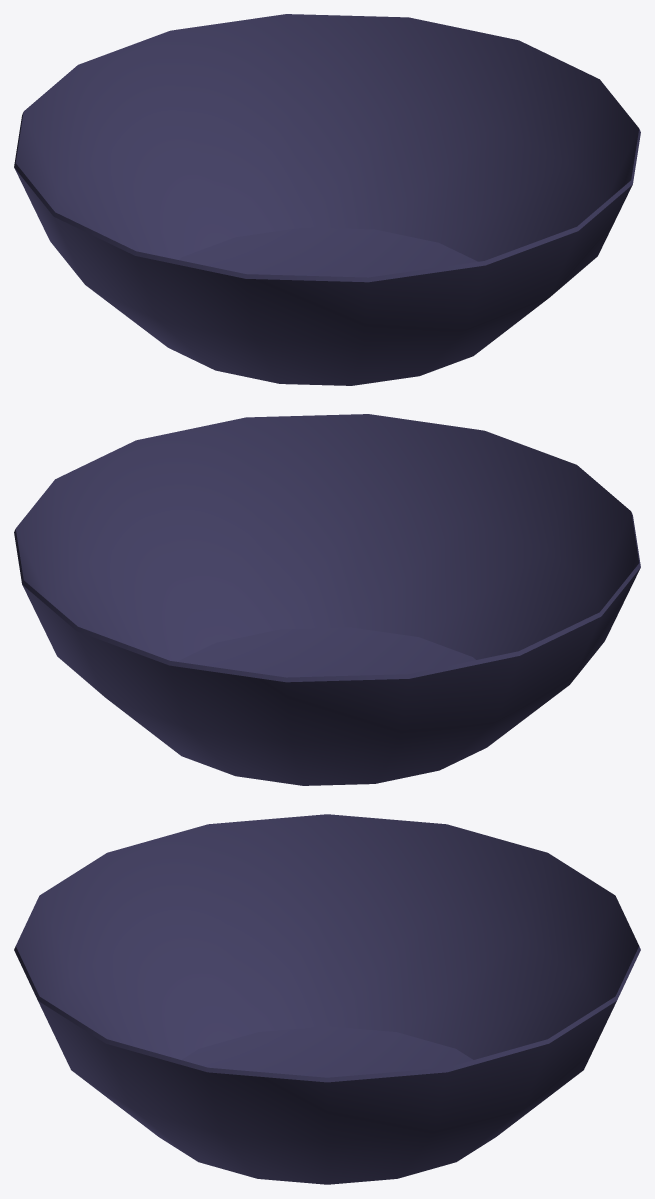
File: bolw4.fbx
3 views of the same model, one above another, from view 1: azimuth 30°, elevation 25°; view 2: azimuth 150°, elevation 25°; view 3: azimuth 270°, elevation 25° (orthographic).
Visible parts, largest first — view 1: bolw4; view 2: bolw4; view 3: bolw4.
Part boxes in pixels (left/top/right/bottom): bolw4: left=14, top=14, right=640, bottom=385; bolw4: left=14, top=414, right=640, bottom=785; bolw4: left=14, top=814, right=640, bottom=1184.
Bounding box in the file's own units: 0.189 × 0.0607 × 0.189.
